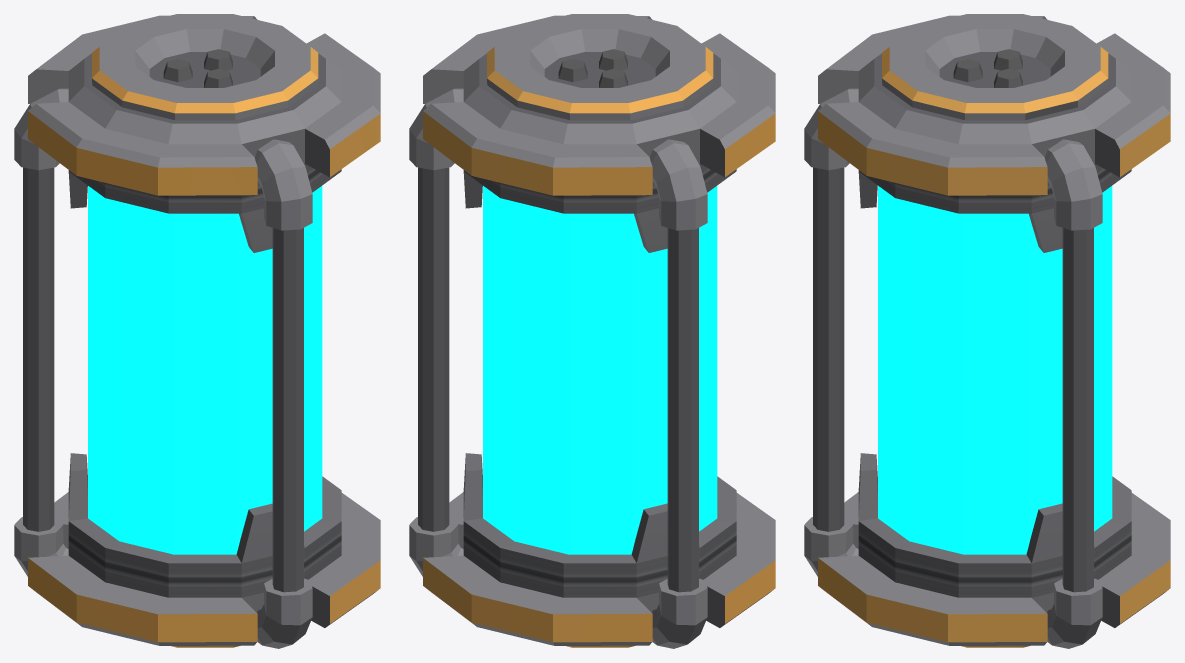
The model's file is entity28192.glb.
The picture shows the model from 3 angles, left to right: view 1: azimuth 30°, elevation 25°; view 2: azimuth 150°, elevation 25°; view 3: azimuth 270°, elevation 25°; orthographic projection.
Parts seen in each view (by area): view 1: node_SM_Prop_Crate_07; view 2: node_SM_Prop_Crate_07; view 3: node_SM_Prop_Crate_07.
Boxes of the visible parts, <box> form: node_SM_Prop_Crate_07: <box>14,14,380,648</box>; node_SM_Prop_Crate_07: <box>409,14,775,648</box>; node_SM_Prop_Crate_07: <box>804,14,1170,648</box>.
Bounding box in the file's own units: 1.04 × 1.78 × 1.08.
1 material, 1 textured.
